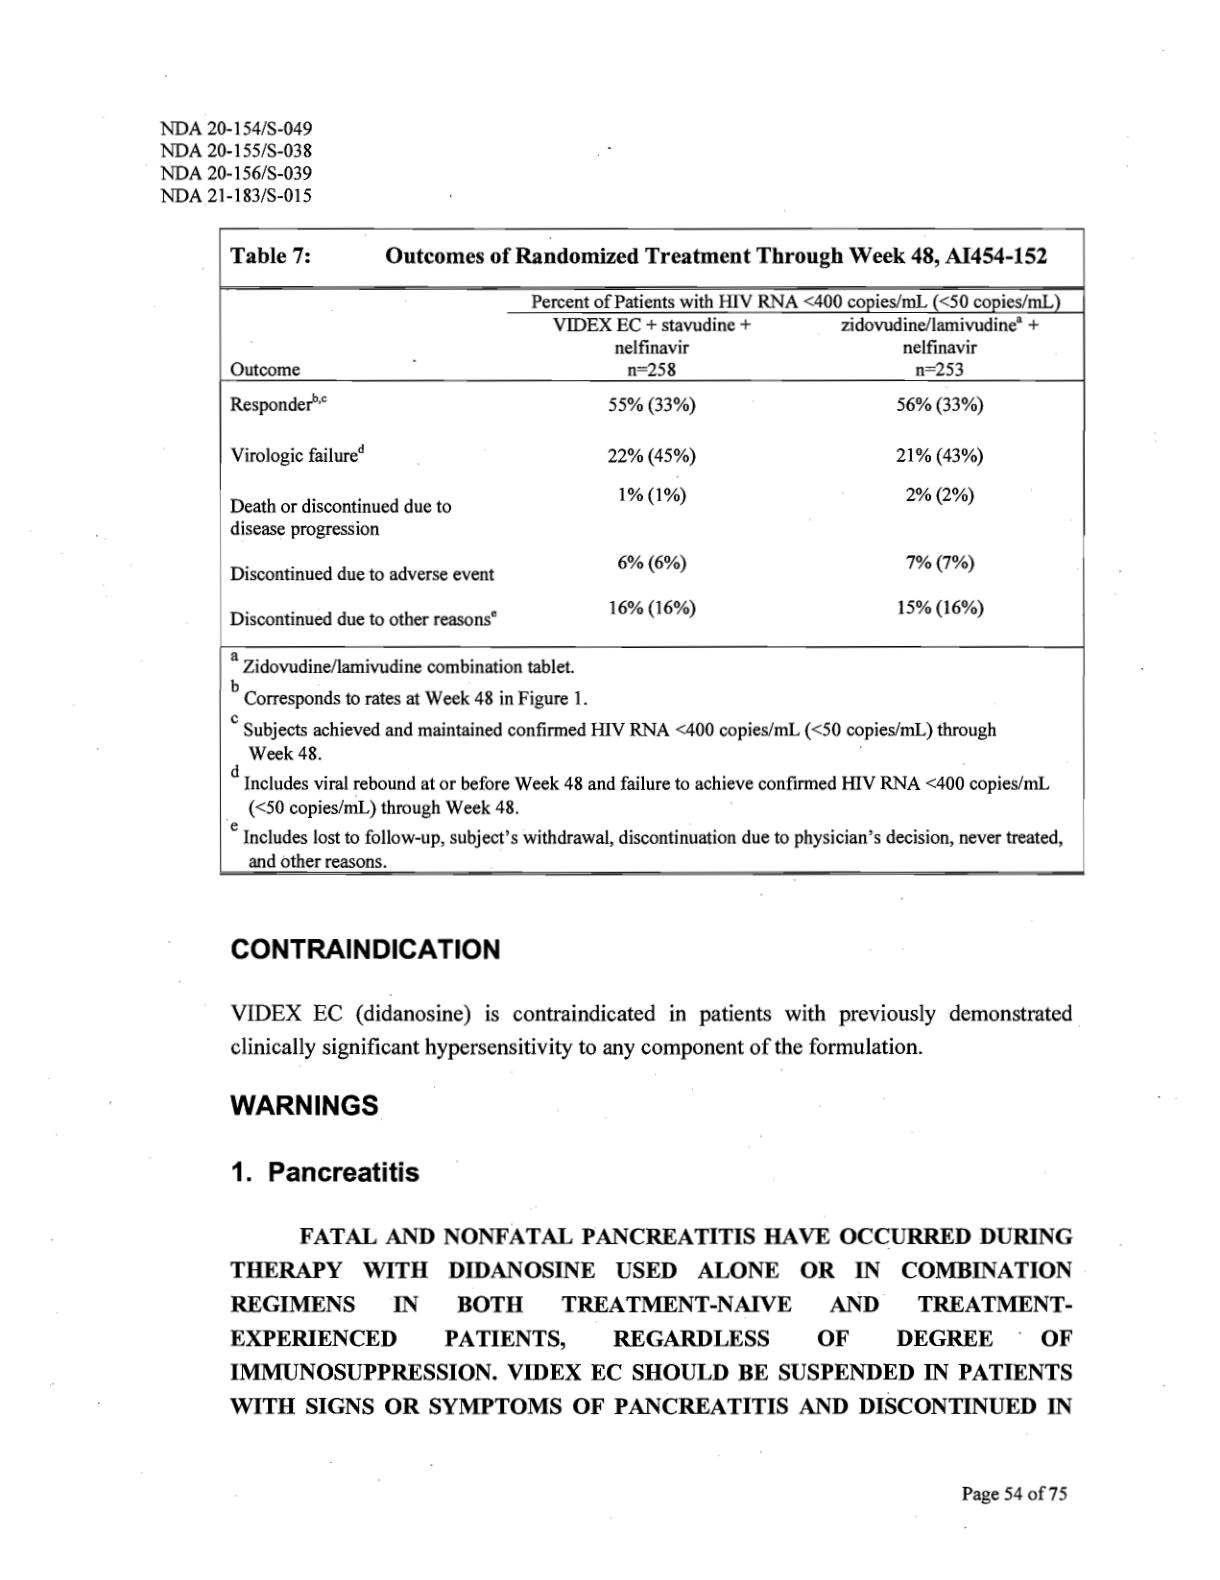partial_lined_merged_cells: (217, 283, 1087, 652)
